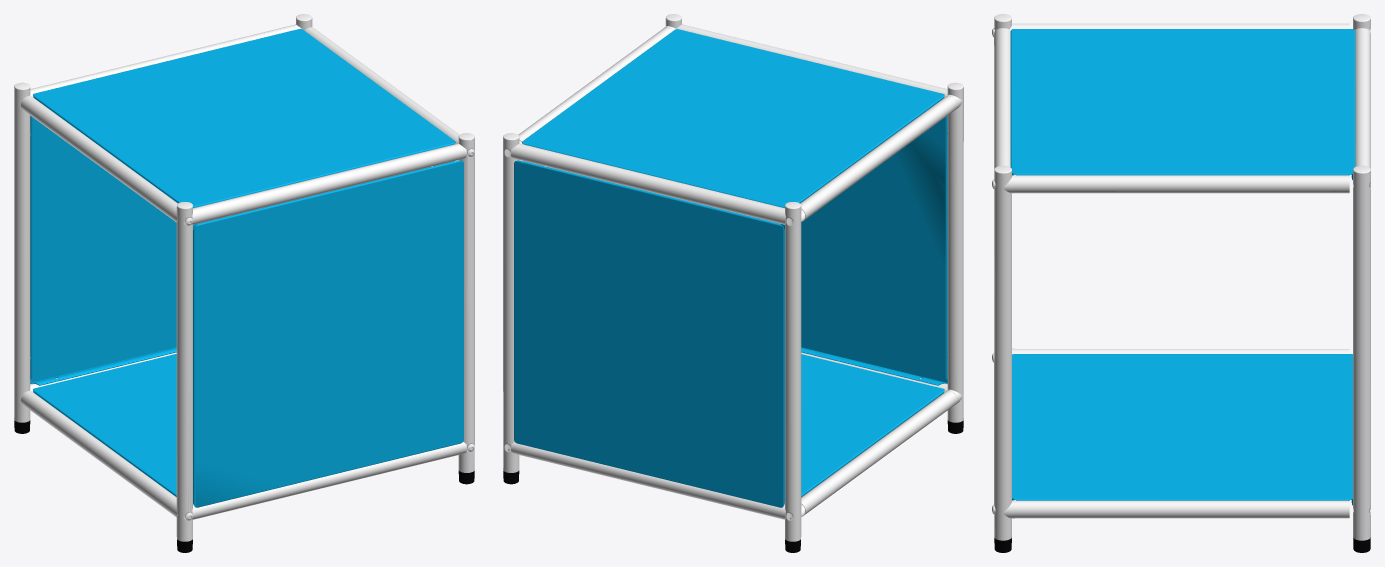
Rendered from 40x40x40-2-7-blue_optimized_optimized.glb.
The picture shows the model from 3 angles, left to right: view 1: azimuth 30°, elevation 25°; view 2: azimuth 150°, elevation 25°; view 3: azimuth 270°, elevation 25°; orthographic projection. The views are drawn at different scales.
Parts seen in each view (by area): view 1: 直角鐵板-40x40-5 - 零件, 反-鐵管-40-354..4-1 - 零件, 圓形腳+調整器-1 - 零件; view 2: 直角鐵板-40x40-5 - 零件, 反-鐵管-40-354..4-1 - 零件, 圓形腳+調整器-1 - 零件; view 3: 直角鐵板-40x40-5 - 零件, 反-鐵管-40-354..4-1 - 零件.
Boxes of the visible parts, x1,y1,x2,y2 form: 直角鐵板-40x40-5 - 零件: [30, 28, 463, 507]; 反-鐵管-40-354..4-1 - 零件: [14, 14, 474, 541]; 圓形腳+調整器-1 - 零件: [14, 420, 474, 552]; 直角鐵板-40x40-5 - 零件: [514, 29, 947, 507]; 反-鐵管-40-354..4-1 - 零件: [503, 14, 963, 541]; 圓形腳+調整器-1 - 零件: [503, 420, 963, 552]; 直角鐵板-40x40-5 - 零件: [1010, 29, 1355, 505]; 反-鐵管-40-354..4-1 - 零件: [992, 14, 1370, 540].
Bounding box in the file's own units: 0.3992 × 0.4453 × 0.4013.
